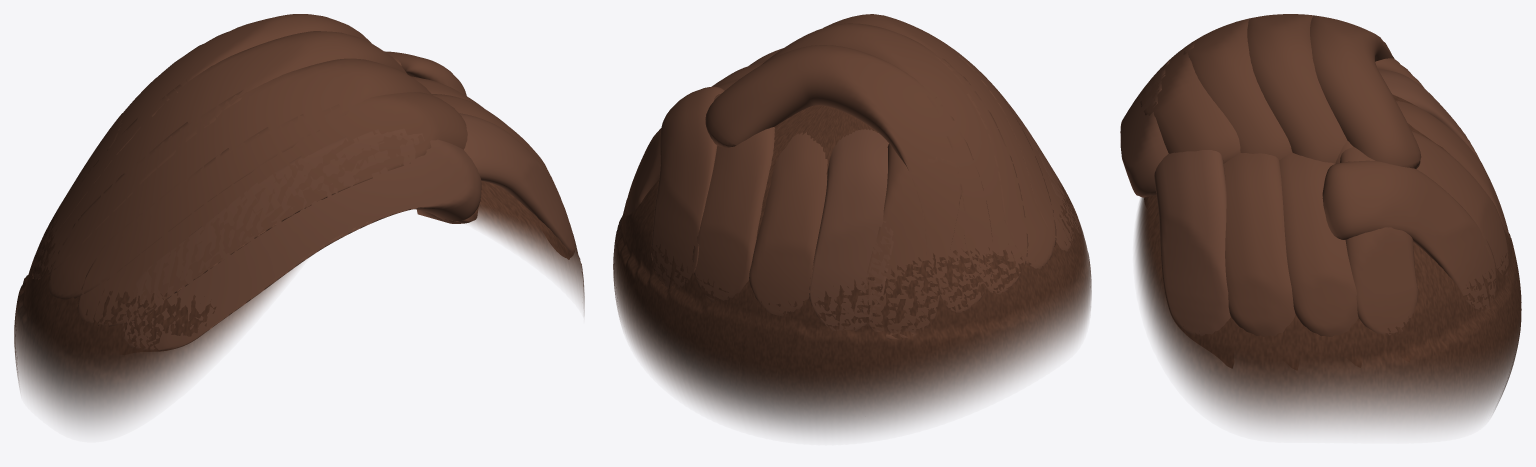
Rendered from Masculine-taper-beanie252-hair.glb.
3 views of the same model, side by side, from view 1: azimuth 30°, elevation 25°; view 2: azimuth 150°, elevation 25°; view 3: azimuth 270°, elevation 25° (orthographic). The views are drawn at different scales.
Parts seen in each view (by area): view 1: 226 hair / Hair252 / sculpted locks.001, 226 hair / Hair252 / gentle tonal variation.001, 226 hair / Hair252 / restored153 fade coverage.001; view 2: 226 hair / Hair252 / sculpted locks.001, 226 hair / Hair252 / restored153 fade coverage.001, 226 hair / Hair252 / gentle tonal variation.001; view 3: 226 hair / Hair252 / sculpted locks.001, 226 hair / Hair252 / restored153 fade coverage.001, 226 hair / Hair252 / gentle tonal variation.001.
Boxes of the visible parts, x1,y1,x2,y2 form: 226 hair / Hair252 / sculpted locks.001: [32, 14, 558, 326]; 226 hair / Hair252 / gentle tonal variation.001: [122, 113, 575, 351]; 226 hair / Hair252 / restored153 fade coverage.001: [14, 181, 584, 427]; 226 hair / Hair252 / sculpted locks.001: [624, 14, 1073, 339]; 226 hair / Hair252 / restored153 fade coverage.001: [613, 105, 1091, 435]; 226 hair / Hair252 / gentle tonal variation.001: [749, 48, 1080, 330]; 226 hair / Hair252 / sculpted locks.001: [1140, 14, 1510, 336]; 226 hair / Hair252 / restored153 fade coverage.001: [1135, 93, 1521, 430]; 226 hair / Hair252 / gentle tonal variation.001: [1120, 59, 1479, 335].
Size of the model in its own units: 0.976 by 0.7525 by 0.7344.
3 materials, 1 textured.
